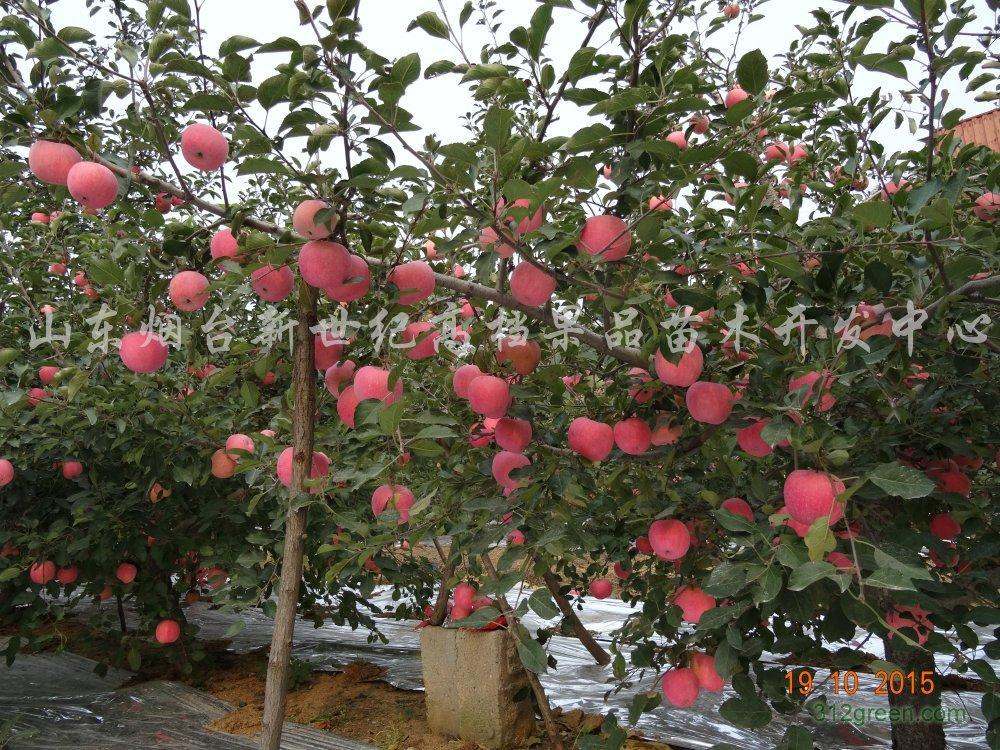apple: (781, 468, 846, 525), (576, 213, 632, 261), (279, 444, 332, 492), (28, 138, 83, 184), (65, 160, 117, 208), (179, 122, 227, 171), (653, 340, 702, 387), (507, 259, 555, 306), (327, 255, 371, 305), (383, 262, 434, 304), (568, 418, 615, 462), (292, 198, 340, 241), (299, 242, 347, 284), (686, 380, 731, 424), (667, 584, 716, 623), (355, 363, 401, 404), (169, 268, 213, 309), (119, 328, 163, 369), (738, 418, 784, 455), (613, 416, 653, 457), (649, 521, 693, 558), (469, 376, 513, 413), (660, 667, 700, 706), (492, 452, 532, 488), (494, 415, 534, 451), (687, 653, 723, 691)
